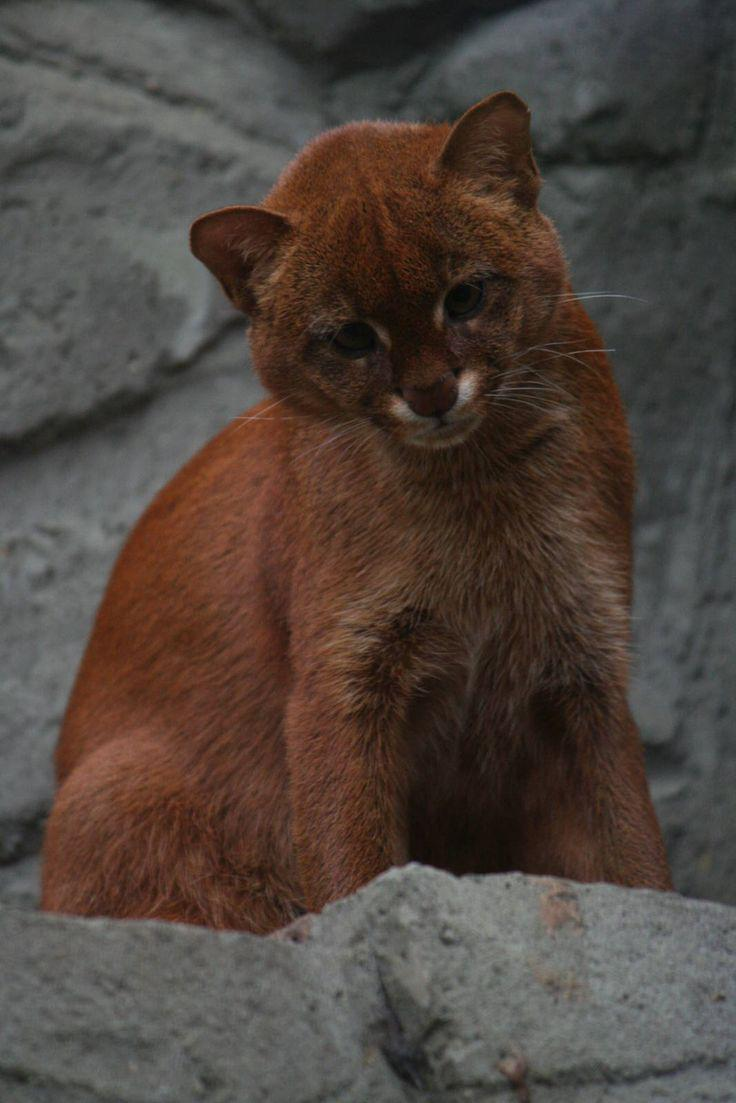Jaguarundi: (33, 100, 691, 893)
